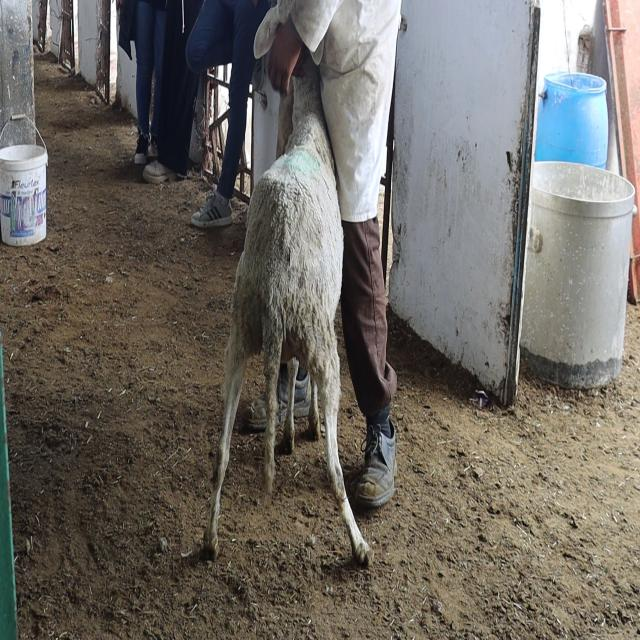Score_1: (203, 60, 372, 563)
